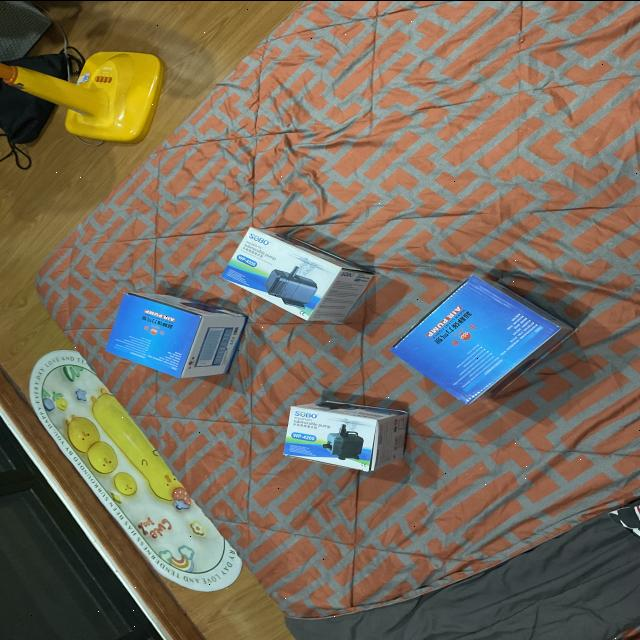SOBO_WP_4200: (224, 220, 398, 322), (267, 392, 416, 476)
YAMANO_LPP_20: (392, 262, 582, 408), (90, 286, 242, 381)
